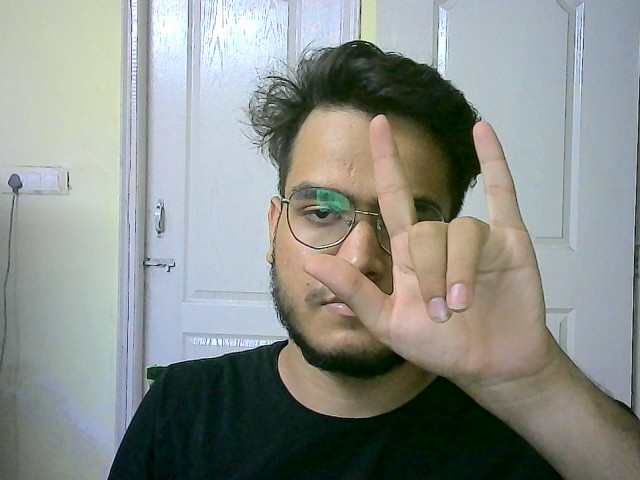I Love You: (309, 114, 558, 374)
